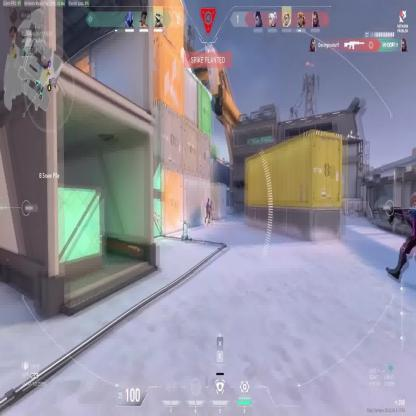enemy: (204, 197, 210, 224)
enemy_head: (208, 198, 210, 203)
